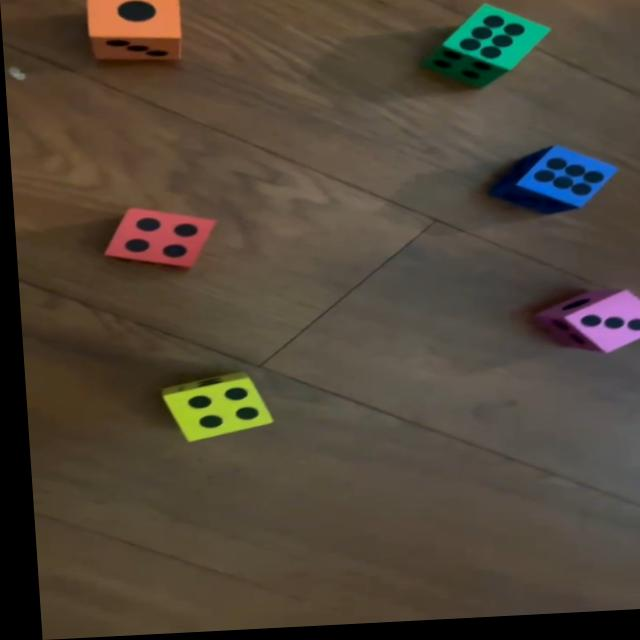cube: (420, 6, 553, 94), (483, 148, 621, 222), (100, 207, 217, 275)
